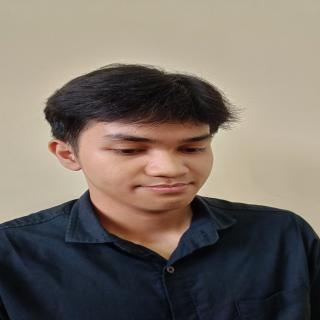Sedih: (71, 102, 227, 214)
